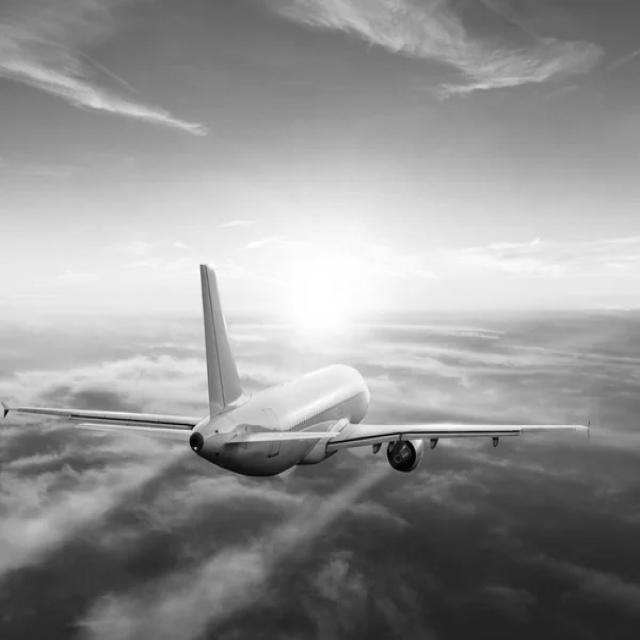Aircraft: (0, 260, 604, 490)
